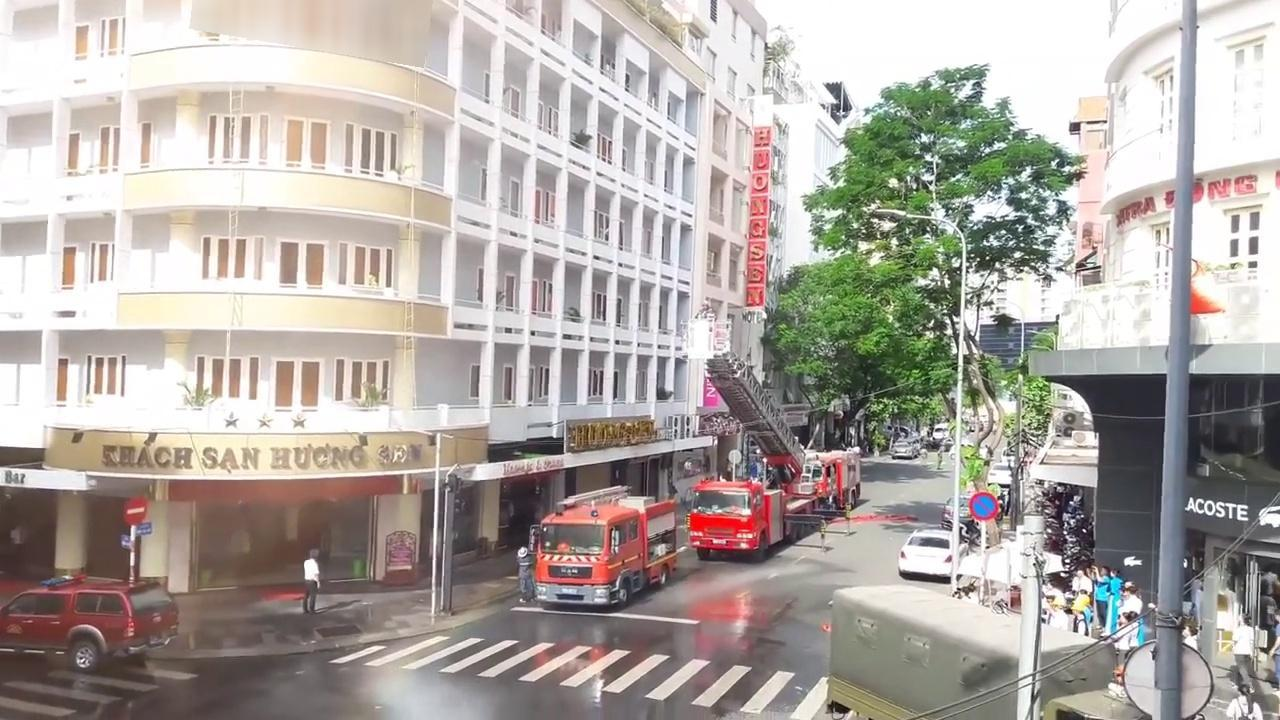xe cuu hoa: (686, 321, 817, 561), (533, 485, 676, 606)
xe hoi: (0, 572, 178, 671), (898, 527, 951, 574)
xe tai: (824, 583, 1148, 720)
